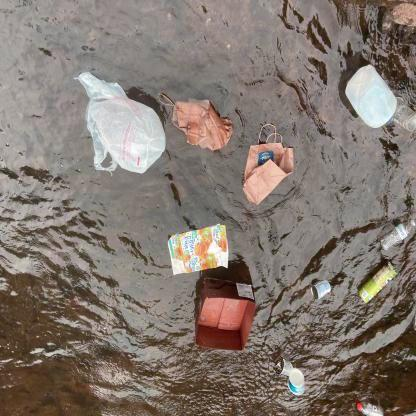Metal: (354, 258, 399, 306), (308, 277, 335, 301), (273, 356, 297, 377)
Plastic: (75, 68, 172, 182), (339, 61, 401, 135), (378, 215, 416, 254), (387, 96, 416, 136), (353, 397, 385, 416)
Trash: (155, 89, 239, 157), (237, 119, 299, 209), (286, 367, 307, 401)
